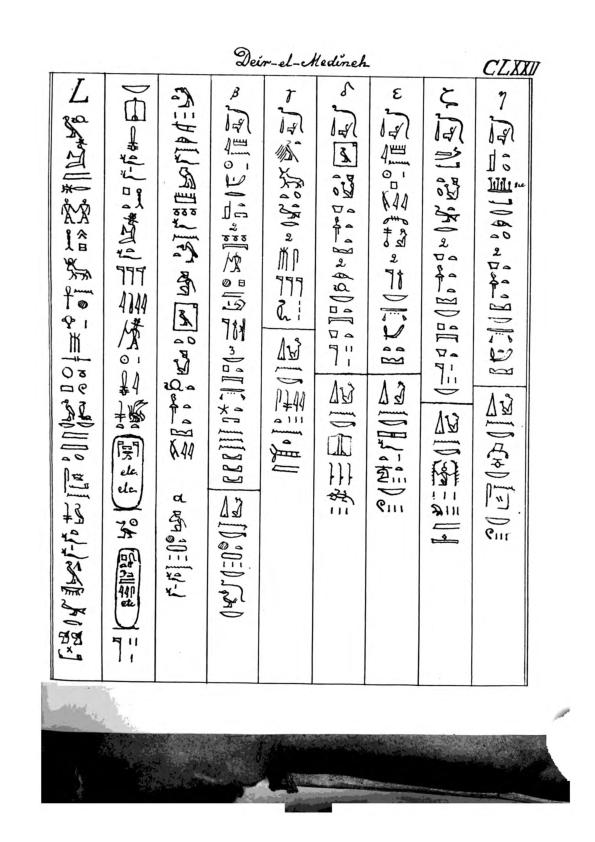circle: (108, 433, 147, 515), (110, 544, 142, 633)
